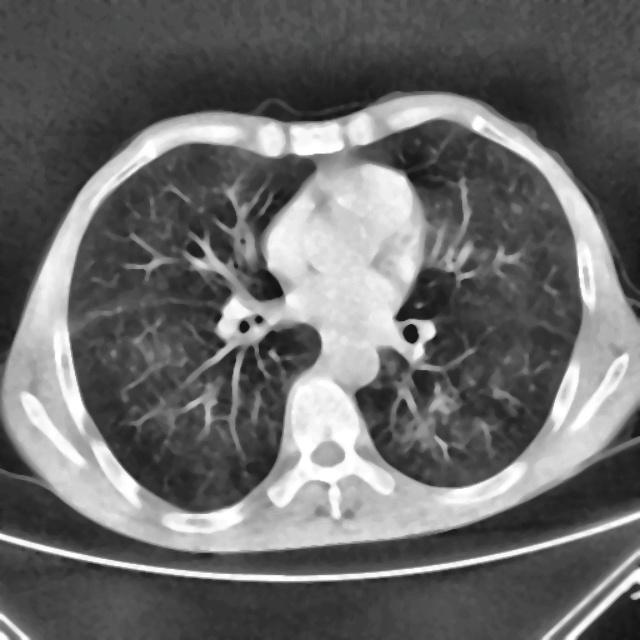covid: (1, 89, 638, 555)
